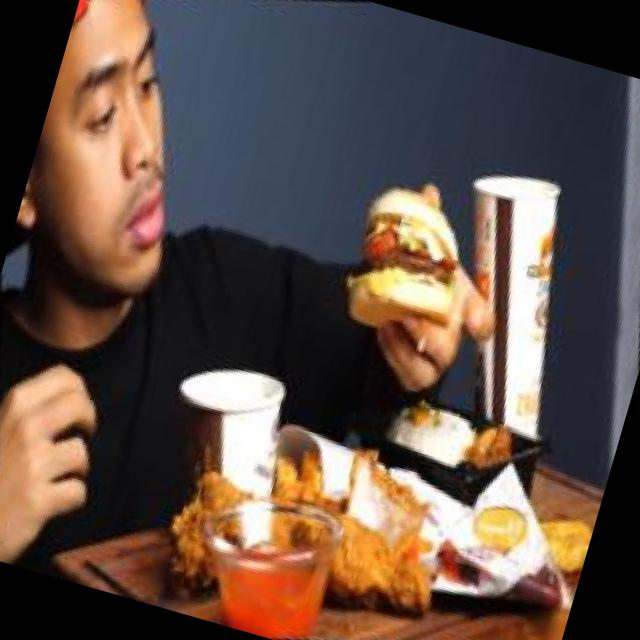AW cola: (395, 127, 628, 448)
black pepper rice bowl: (349, 355, 546, 535)
chicken waffle: (224, 388, 364, 538)
crispy corn: (121, 323, 335, 561)
fried chicken: (114, 363, 491, 640)
mozza burger: (296, 138, 508, 374)
perkedel: (480, 460, 606, 610)
